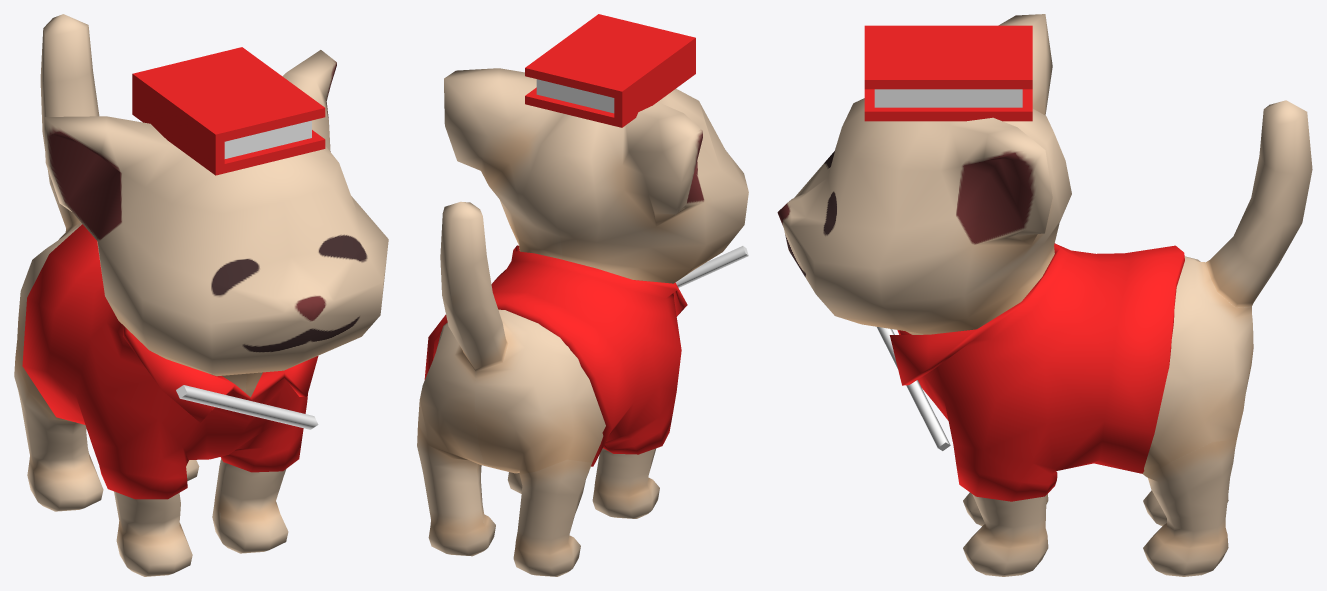
Rendered from Disciplinarian Cat01.fbx.
The picture shows the model from 3 angles, left to right: view 1: azimuth 30°, elevation 25°; view 2: azimuth 150°, elevation 25°; view 3: azimuth 270°, elevation 25°; orthographic projection. The views are drawn at different scales.
Visible parts, largest first — view 1: Cat_Base, Disciplinarian_Cat_Shirt, Disciplinarian_Cat_Handbook, Cone001; view 2: Cat_Base, Disciplinarian_Cat_Shirt, Disciplinarian_Cat_Handbook, Cone001; view 3: Cat_Base, Disciplinarian_Cat_Shirt, Disciplinarian_Cat_Handbook, Cone001.
Part boxes in pixels (x1=…): Cat_Base: x1=14, y1=14, x2=388, y2=576; Disciplinarian_Cat_Shirt: x1=22, y1=224, x2=318, y2=499; Disciplinarian_Cat_Handbook: x1=132, y1=47, x2=325, y2=175; Cone001: x1=176, y1=385, x2=318, y2=429; Cat_Base: x1=417, y1=68, x2=748, y2=576; Disciplinarian_Cat_Shirt: x1=424, y1=245, x2=687, y2=466; Disciplinarian_Cat_Handbook: x1=525, y1=14, x2=695, y2=127; Cone001: x1=675, y1=246, x2=748, y2=287; Cat_Base: x1=777, y1=14, x2=1312, y2=576; Disciplinarian_Cat_Shirt: x1=889, y1=243, x2=1184, y2=501; Disciplinarian_Cat_Handbook: x1=864, y1=25, x2=1032, y2=121; Cone001: x1=877, y1=327, x2=950, y2=450.
Size of the model in its own units: 1.75 by 2.83 by 2.85.
Materials: 3 (1 with a texture image).
